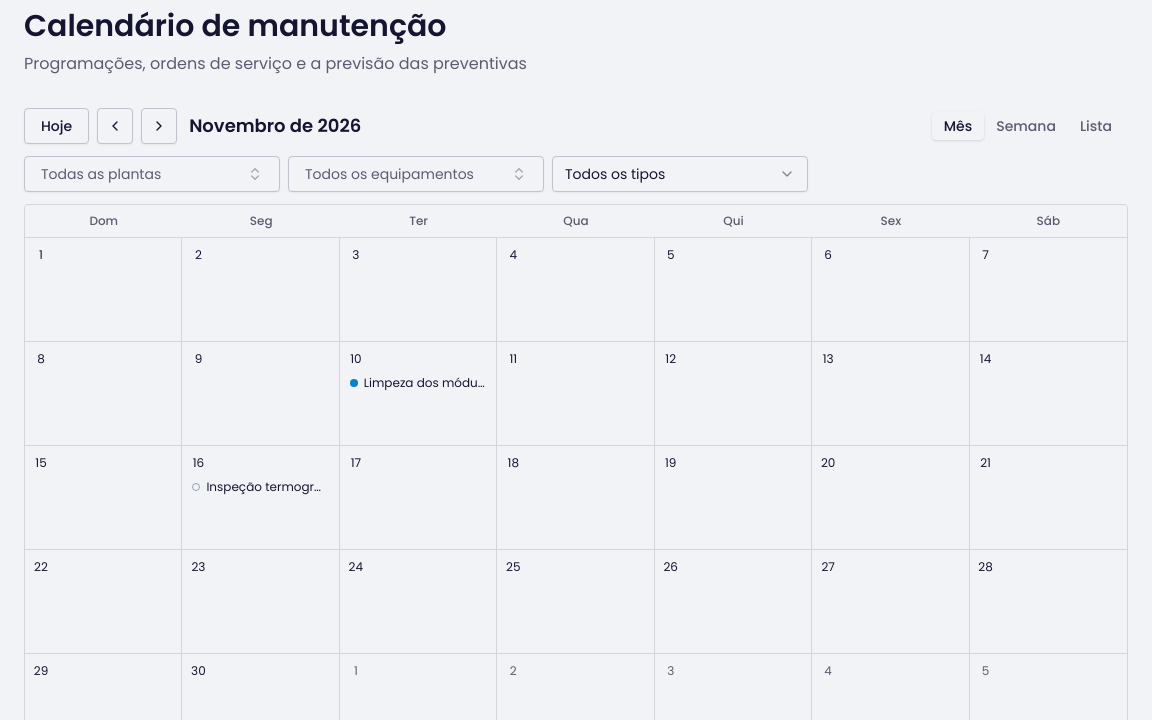
Test: CalendarioPage › a lista pede só o mês e agrupa por dia
This screenshot has width=1152, height=720.
Click the tab "Lista" at (1096, 126), box [1068,112,1124,140]
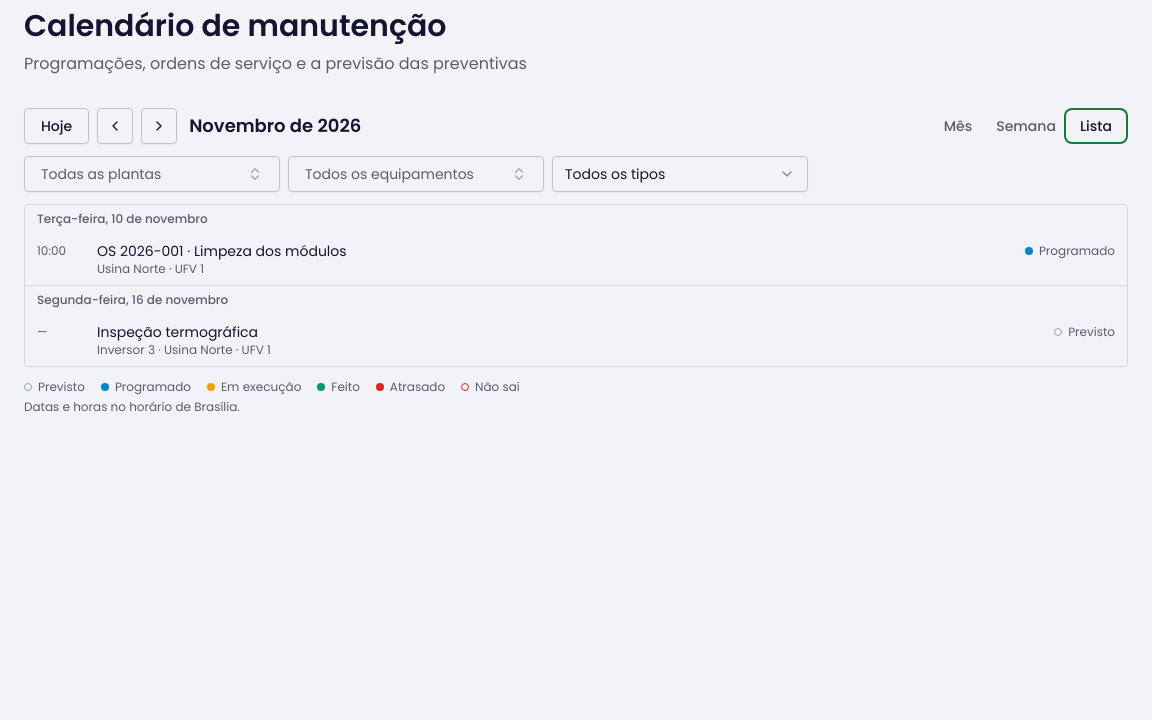
Expected: the heading "Terça-feira, 10 de novembro" is shown, [25,205,1127,233]
Expected: the text "OS 2026-001 · Limpeza dos módulos" is shown, [97,241,347,261]
